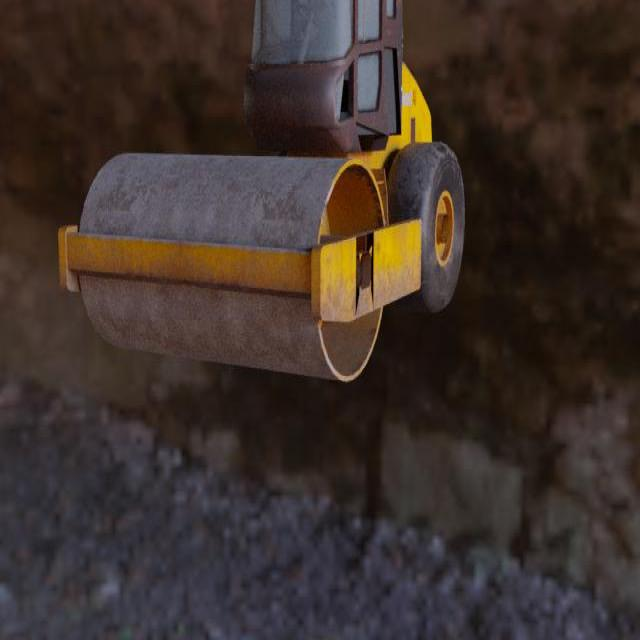Roller: (57, 0, 465, 383)
